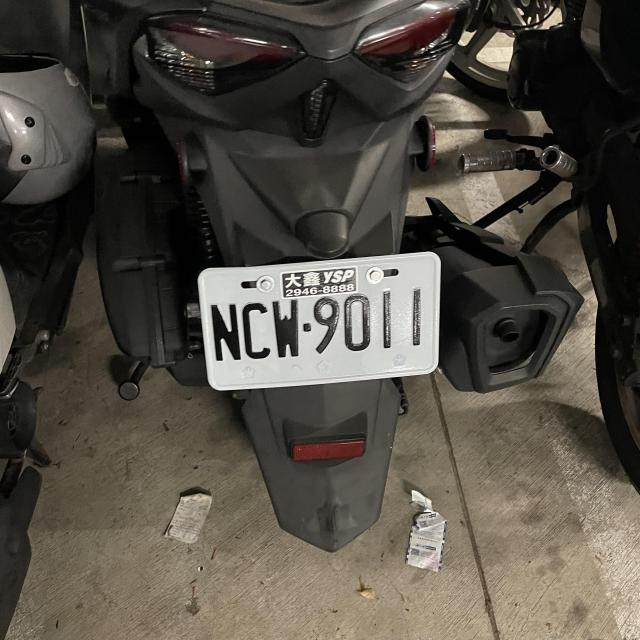W: (196, 253, 446, 392)
